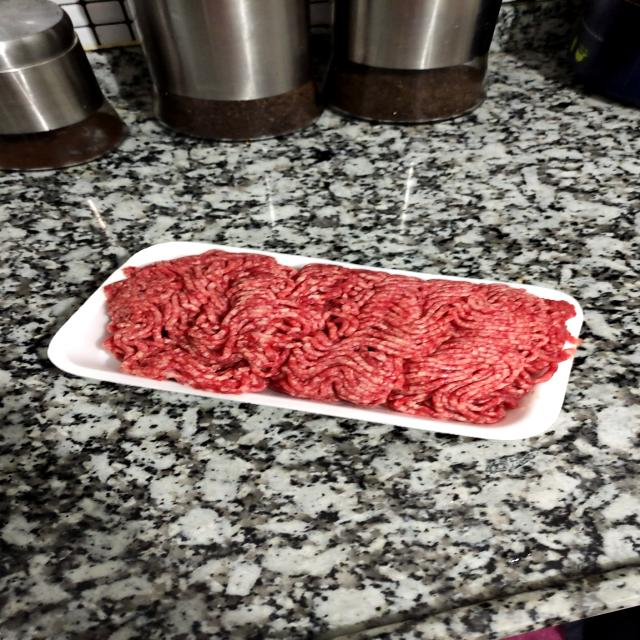ground meat: (70, 237, 586, 430)
